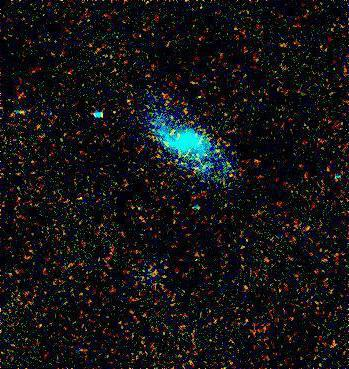star: (242, 146, 272, 176)
